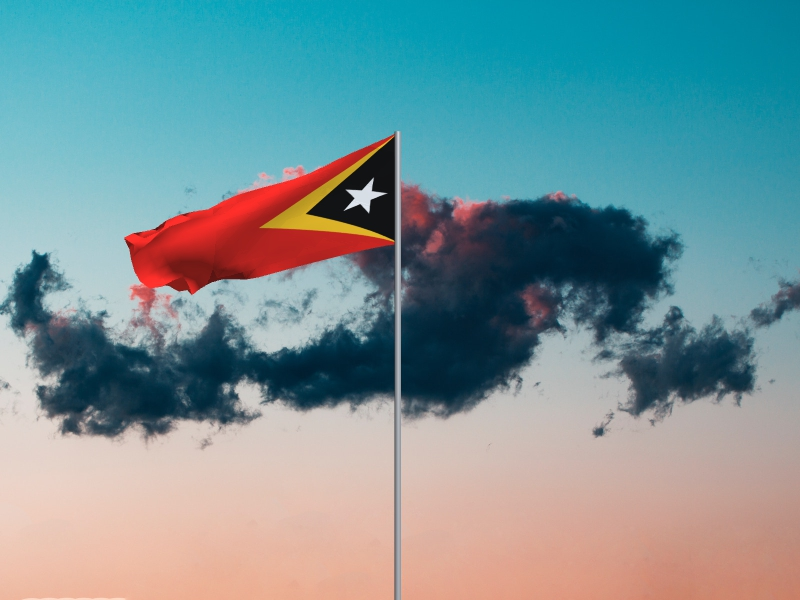tl: (124, 133, 395, 295)
